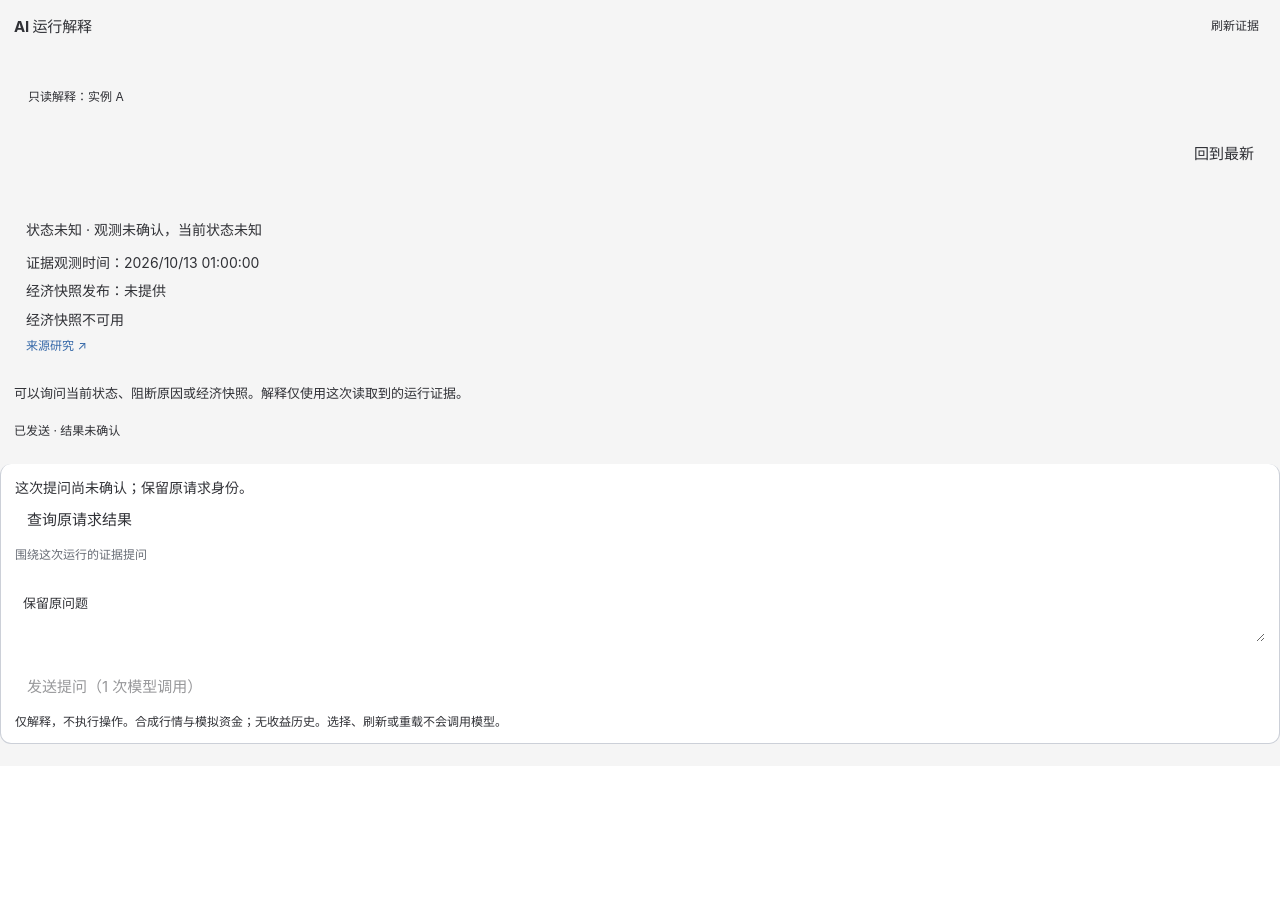
it: queries a restored unknown identity once using the newly returned record, without resend
This screenshot has width=1280, height=900.
Expected: the text "已发送 · 结果未确认" is shown, [14, 423, 120, 438]
Click the button "查询原请求结果". click: point(80, 519)
box: [15, 501, 144, 538]
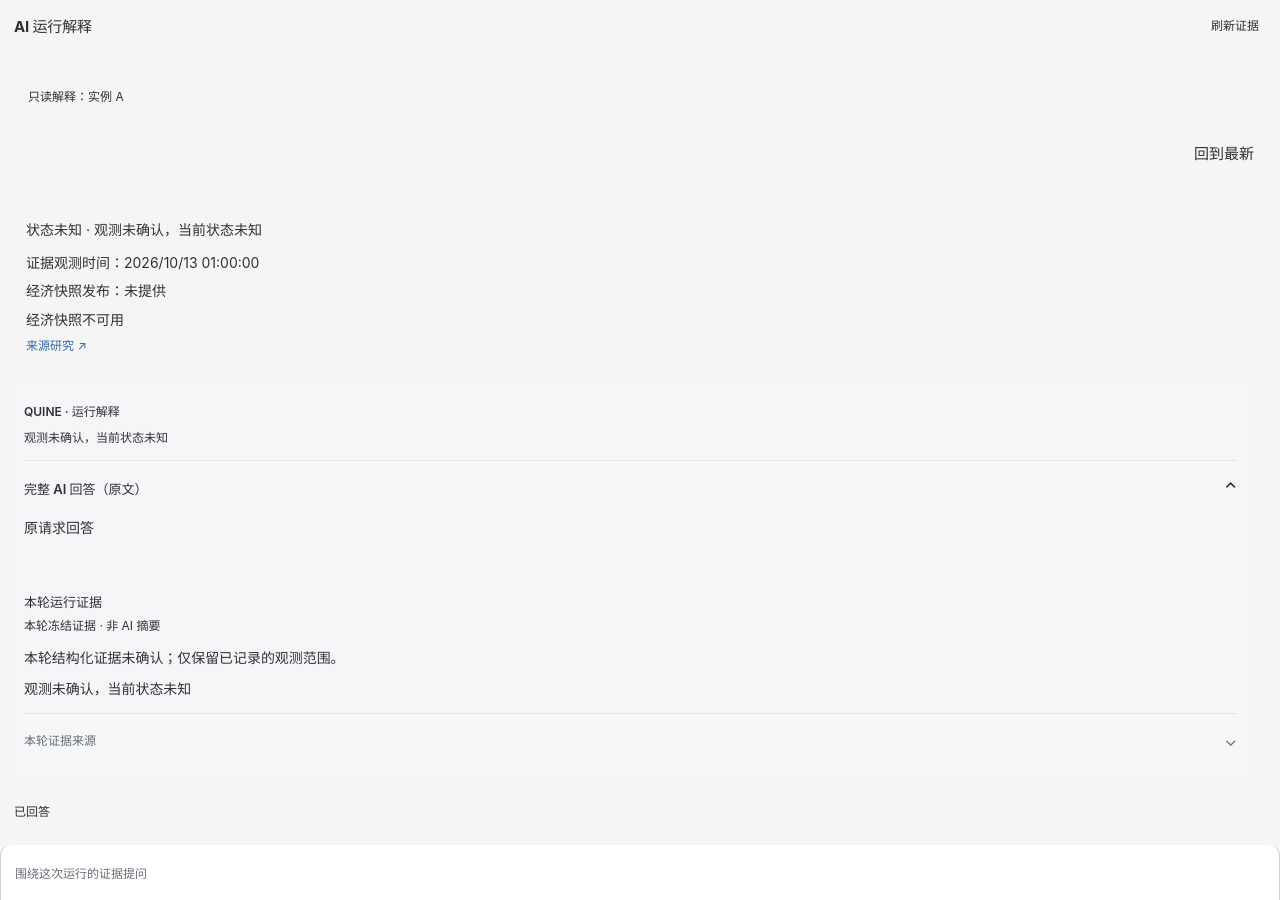
Result: the text "原请求回答" is shown at [24, 519, 94, 536]
